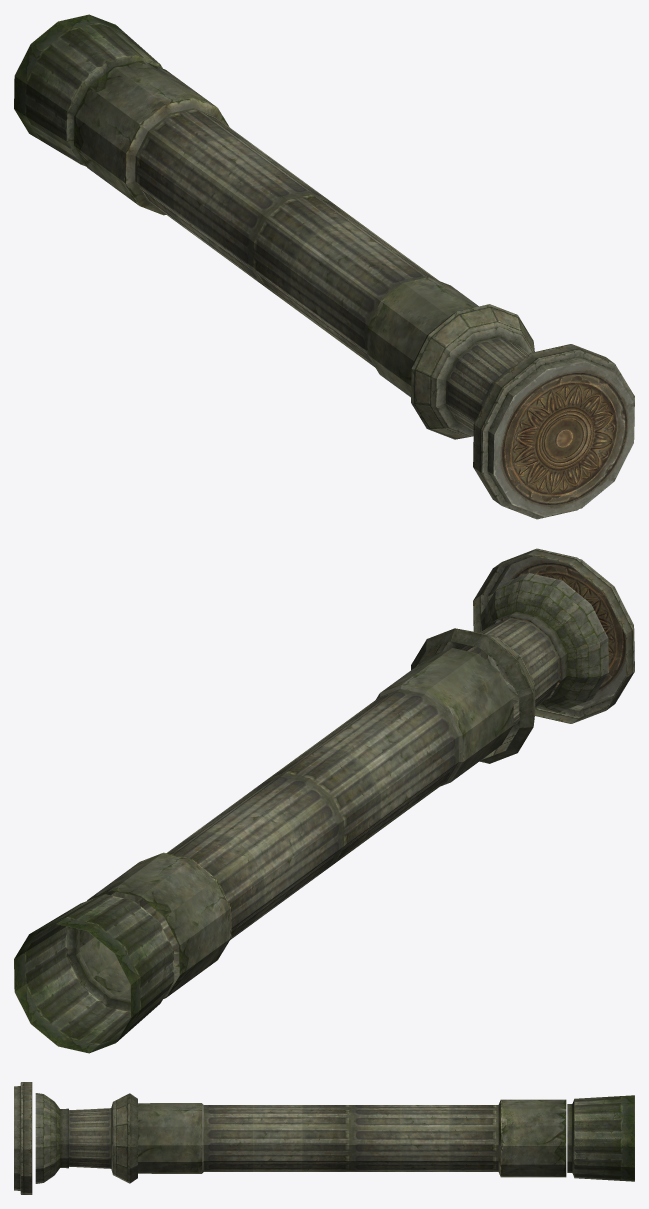
The model's file is zhucheng_yewai_291_zhuzi_01_a.obj.
3 renders of one model, top to bottom at view 1: azimuth 30°, elevation 25°; view 2: azimuth 150°, elevation 25°; view 3: azimuth 270°, elevation 25°, orthographic. The views are drawn at different scales.
Visible parts, largest first — view 1: zhucheng_yewai_291_zhuzi_01_a; view 2: zhucheng_yewai_291_zhuzi_01_a; view 3: zhucheng_yewai_291_zhuzi_01_a.
Boxes of the visible parts, x1,y1,x2,y2 form: zhucheng_yewai_291_zhuzi_01_a: (14, 14, 634, 519); zhucheng_yewai_291_zhuzi_01_a: (14, 548, 634, 1053); zhucheng_yewai_291_zhuzi_01_a: (14, 1082, 634, 1194).
Size of the model in its own units: 426 by 426 by 2370.
9 materials, 9 textured.
